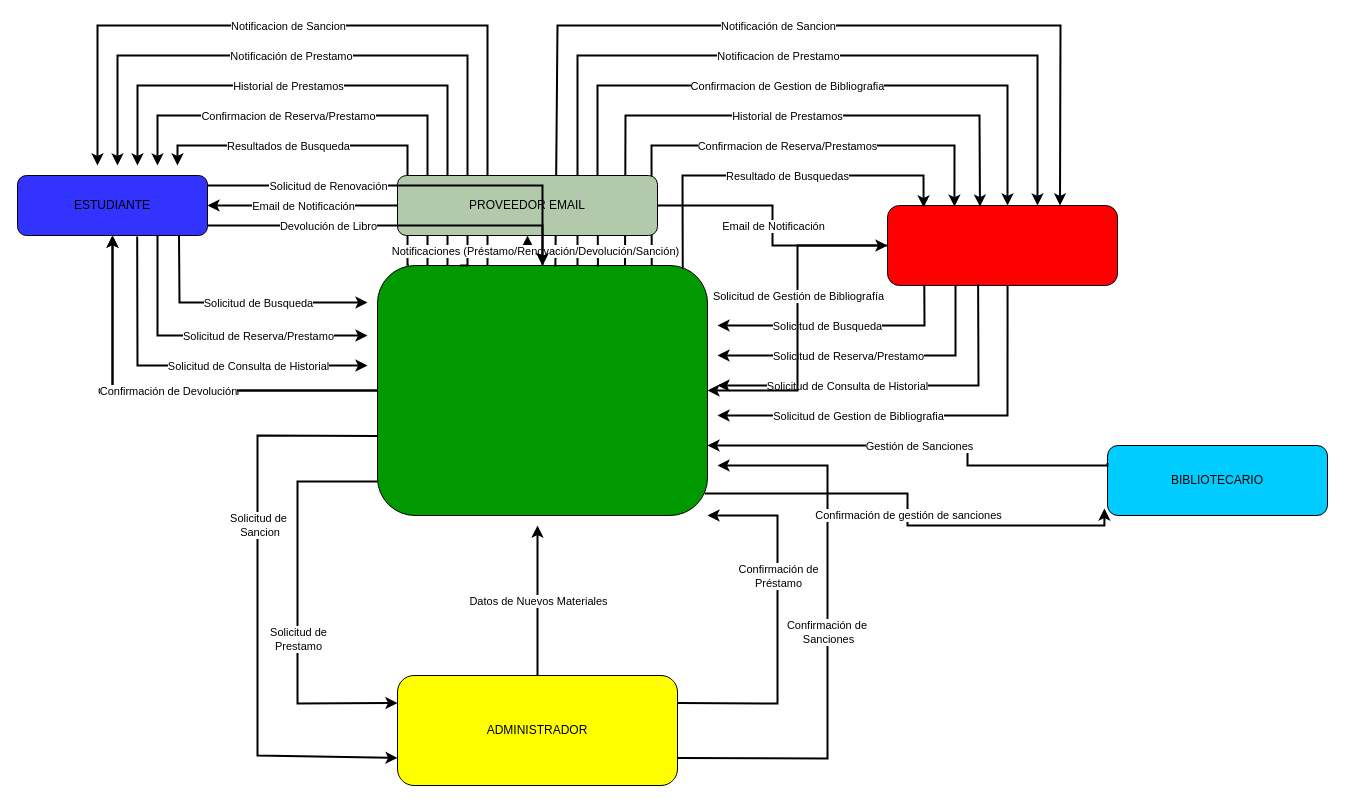
This 1345x803 diagram has some shape labels left out. The centre of each missing label's shape, as x and y in pixels:
"DOCENTE" belongs at [1002,245].
"SOFTWARE PARA LA GESTION Y CONTROL DE UNA BIBLIOTECA - EDUBOOKS-APP" belongs at [542,390].
